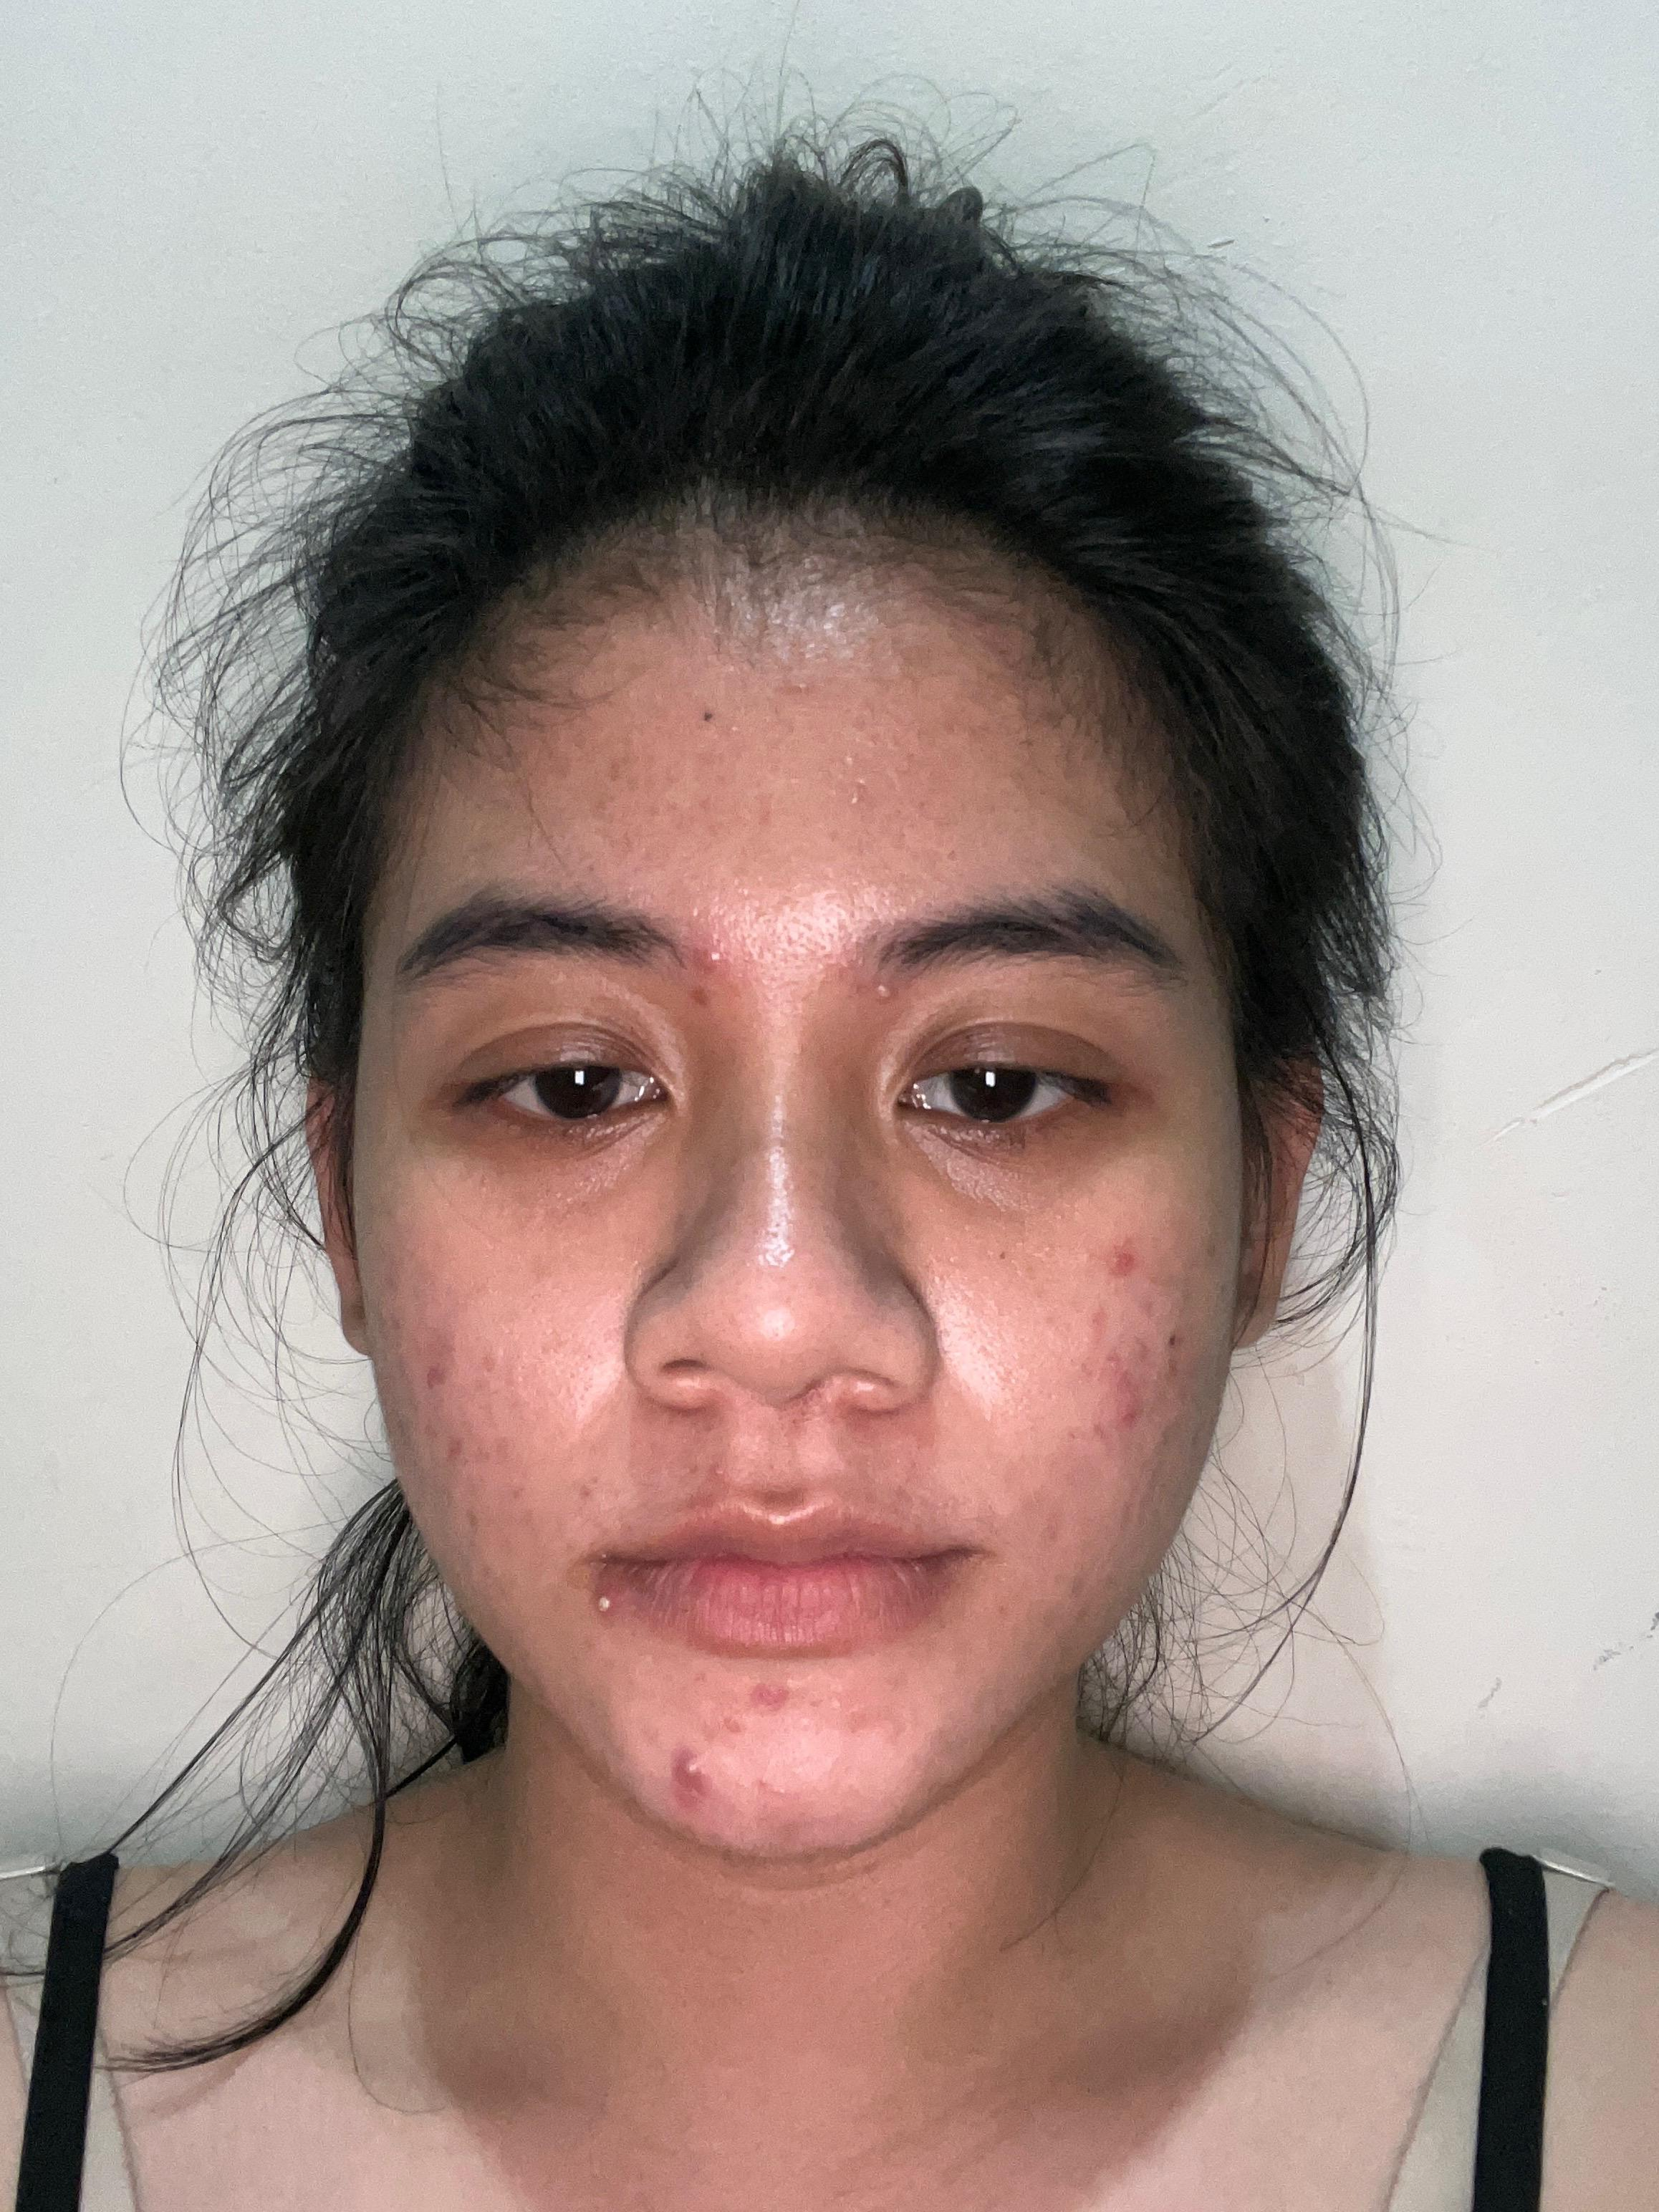Acne: (1103, 1345, 1152, 1437), (664, 1742, 711, 1813), (423, 1325, 462, 1390), (1096, 1237, 1141, 1289), (744, 1677, 798, 1717), (727, 1768, 791, 1801), (685, 941, 732, 979), (603, 744, 643, 782), (505, 1479, 537, 1527), (1166, 1353, 1192, 1411), (436, 1432, 474, 1468), (572, 1468, 603, 1507), (1035, 1514, 1068, 1548), (843, 777, 875, 813), (868, 977, 899, 1012), (580, 798, 615, 829), (486, 1430, 516, 1467), (751, 796, 777, 834), (457, 1505, 488, 1536), (843, 707, 871, 742), (685, 982, 714, 1014), (586, 1590, 613, 1623), (1061, 1571, 1089, 1604), (714, 1709, 746, 1737), (477, 1346, 502, 1381), (929, 716, 965, 738), (1131, 1296, 1164, 1320), (789, 671, 814, 702), (1087, 1303, 1114, 1331), (690, 791, 718, 815), (985, 1601, 1011, 1625), (385, 1306, 408, 1334), (1087, 1418, 1110, 1446), (422, 1416, 441, 1442), (1171, 1287, 1195, 1305)
Englarged-Pores: (946, 1280, 1049, 1413), (509, 1305, 601, 1413), (727, 914, 843, 977)
Eyebags: (877, 1104, 1145, 1209), (423, 1101, 681, 1209)
